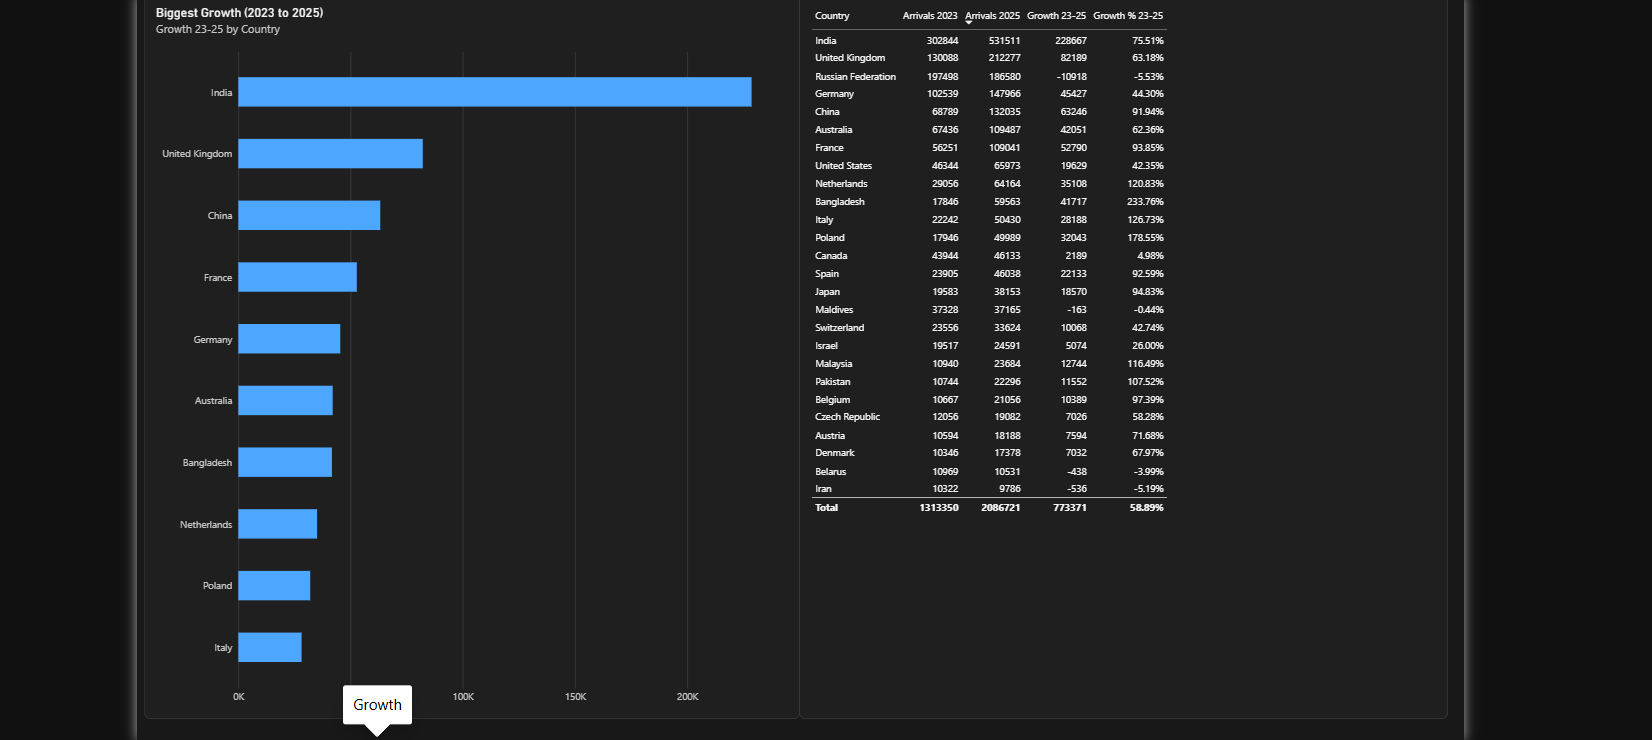

This screenshot's page, from the dashboard's own definition file:
{"tool":"powerbi","page":{"name":"Growth","canvas":[1920,1080],"ordinal":2},"visuals":[{"type":"clusteredBarChart","title":"Biggest Growth (2023 to 2025)","fields":{"Category":["Tourism.Country"],"Y":["Tourism.Growth 23-25"]},"box":[10.3,0,948.9,1047.7],"z":0},{"type":"tableEx","fields":{"Values":["Tourism.Country","Tourism.Arrivals 2023","Tourism.Arrivals 2025","Tourism.Growth 23-25","Tourism.Growth % 23-25"]},"box":[959.2,0,938.6,1047.7],"z":1000}]}

Visuals, with their boxes on the page's 1920x1080 design canvas (x1, y1, x2, y2). These are canvas units, not pixel positions in the 1652x740 screenshot, which may show the page scaled, cropped or inside an application window:
"Biggest Growth (2023 to 2025)" clusteredBarChart: box(10, 0, 959, 1048)
tableEx - Tourism.Country x Tourism.Arrivals 2023: box(959, 0, 1898, 1048)
